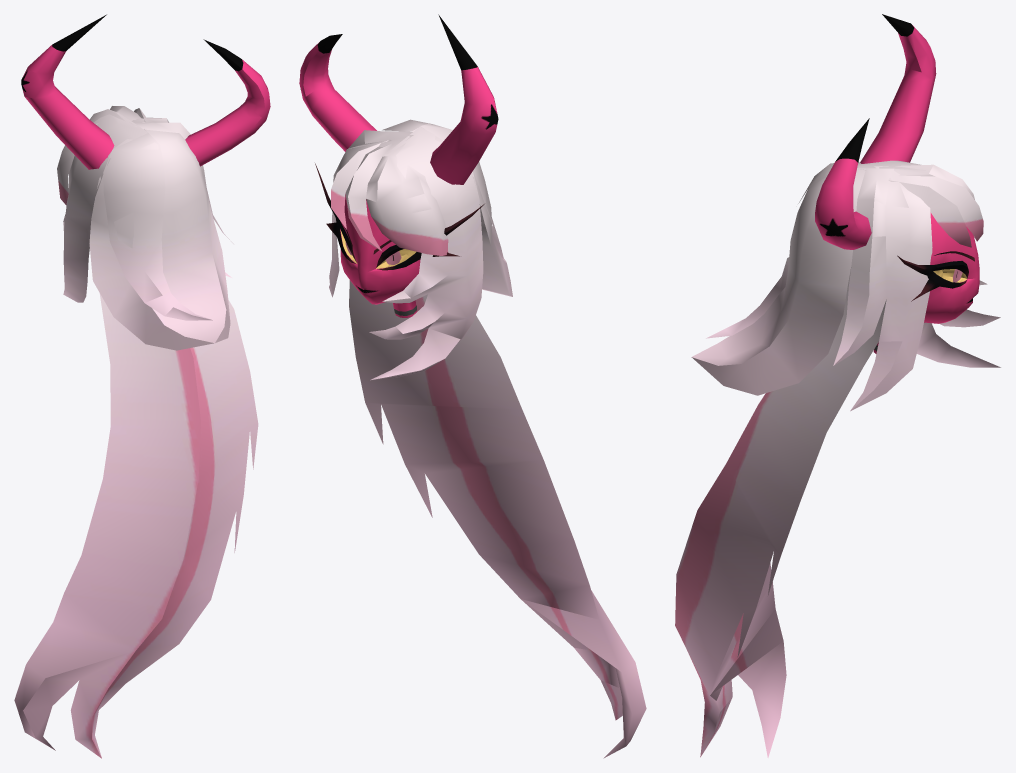
File: verosika mayday.glb
3 views of the same model, side by side, from view 1: azimuth 30°, elevation 25°; view 2: azimuth 150°, elevation 25°; view 3: azimuth 270°, elevation 25° (orthographic). The views are drawn at different scales.
Visible parts, largest first — view 1: Body.001; view 2: Body.001; view 3: Body.001.
Part boxes in pixels (x1,y1,x2,y2): Body.001: [14, 14, 270, 758]; Body.001: [299, 14, 646, 758]; Body.001: [675, 14, 1000, 757].
Size of the model in its own units: 2.82 by 6.62 by 2.44.
Materials: 5 (5 with a texture image).
